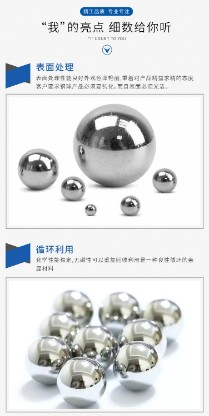ironball: (72, 103, 156, 186), (56, 356, 106, 407), (112, 340, 160, 391), (24, 335, 71, 385), (70, 324, 117, 370), (117, 317, 167, 358), (98, 291, 140, 337), (17, 147, 59, 190), (142, 298, 183, 342), (53, 289, 93, 327), (39, 311, 80, 346), (152, 168, 177, 192), (60, 176, 85, 200), (120, 195, 140, 215), (84, 203, 96, 215)
